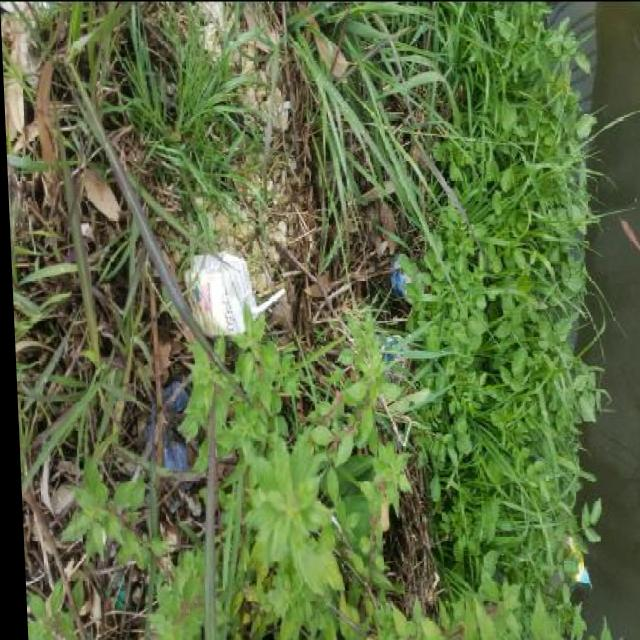cardboard: (270, 366, 358, 468)
plastic: (261, 228, 315, 262)
